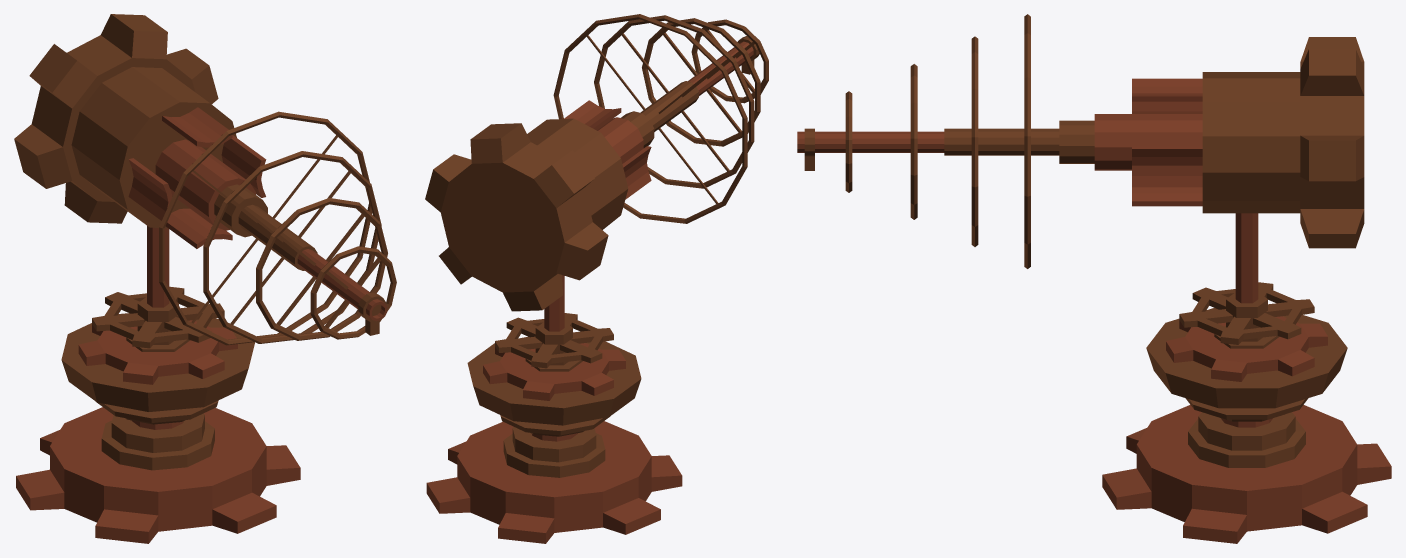
File: Laser_2.glb
3 views of the same model, side by side, from view 1: azimuth 30°, elevation 25°; view 2: azimuth 150°, elevation 25°; view 3: azimuth 270°, elevation 25° (orthographic). The views are drawn at different scales.
Parts seen in each view (by area): view 1: Laser_2_Gun, Laser_2_Base, Laser_2_Mid; view 2: Laser_2_Gun, Laser_2_Base, Laser_2_Mid; view 3: Laser_2_Gun, Laser_2_Base, Laser_2_Mid.
Boxes of the visible parts, x1,y1,x2,y2 form: Laser_2_Gun: [14, 14, 396, 345]; Laser_2_Base: [16, 313, 300, 543]; Laser_2_Mid: [78, 226, 237, 384]; Laser_2_Gun: [425, 14, 768, 311]; Laser_2_Base: [426, 336, 682, 543]; Laser_2_Mid: [483, 275, 625, 400]; Laser_2_Gun: [797, 14, 1364, 268]; Laser_2_Base: [1102, 308, 1391, 543]; Laser_2_Mid: [1166, 213, 1327, 381].
Bounding box in the file's own units: 1.38 × 2.4 × 2.83.
